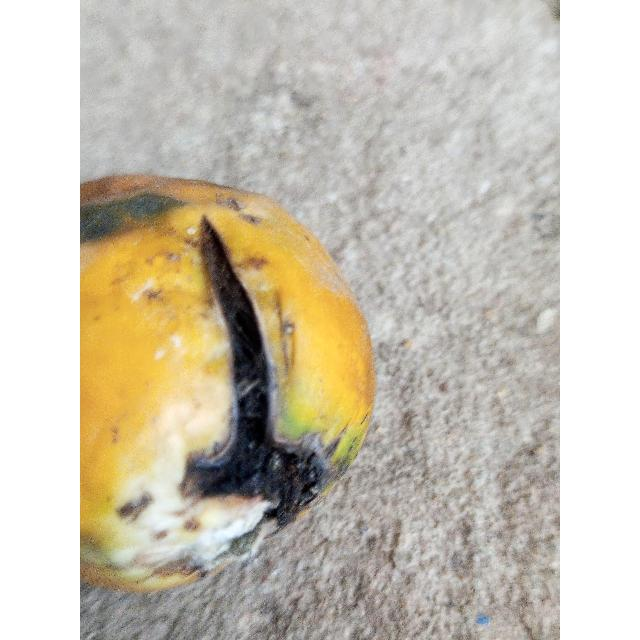damaged: (80, 174, 377, 596)
